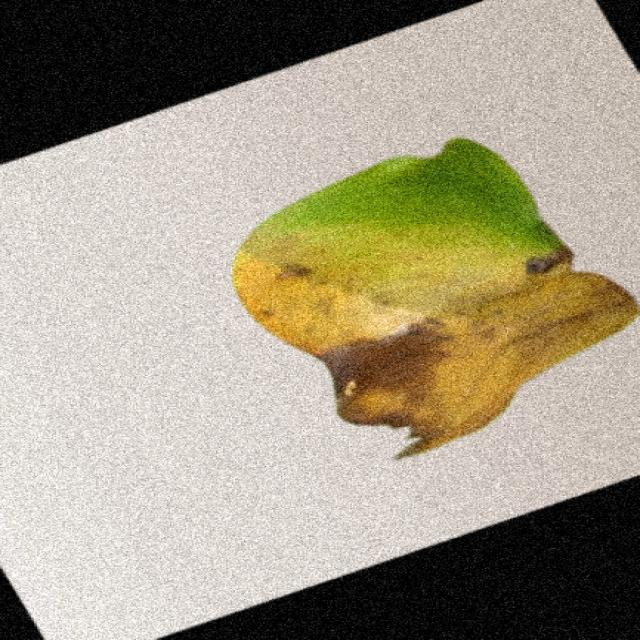daun berpenyakit kuning: (233, 139, 638, 458)
